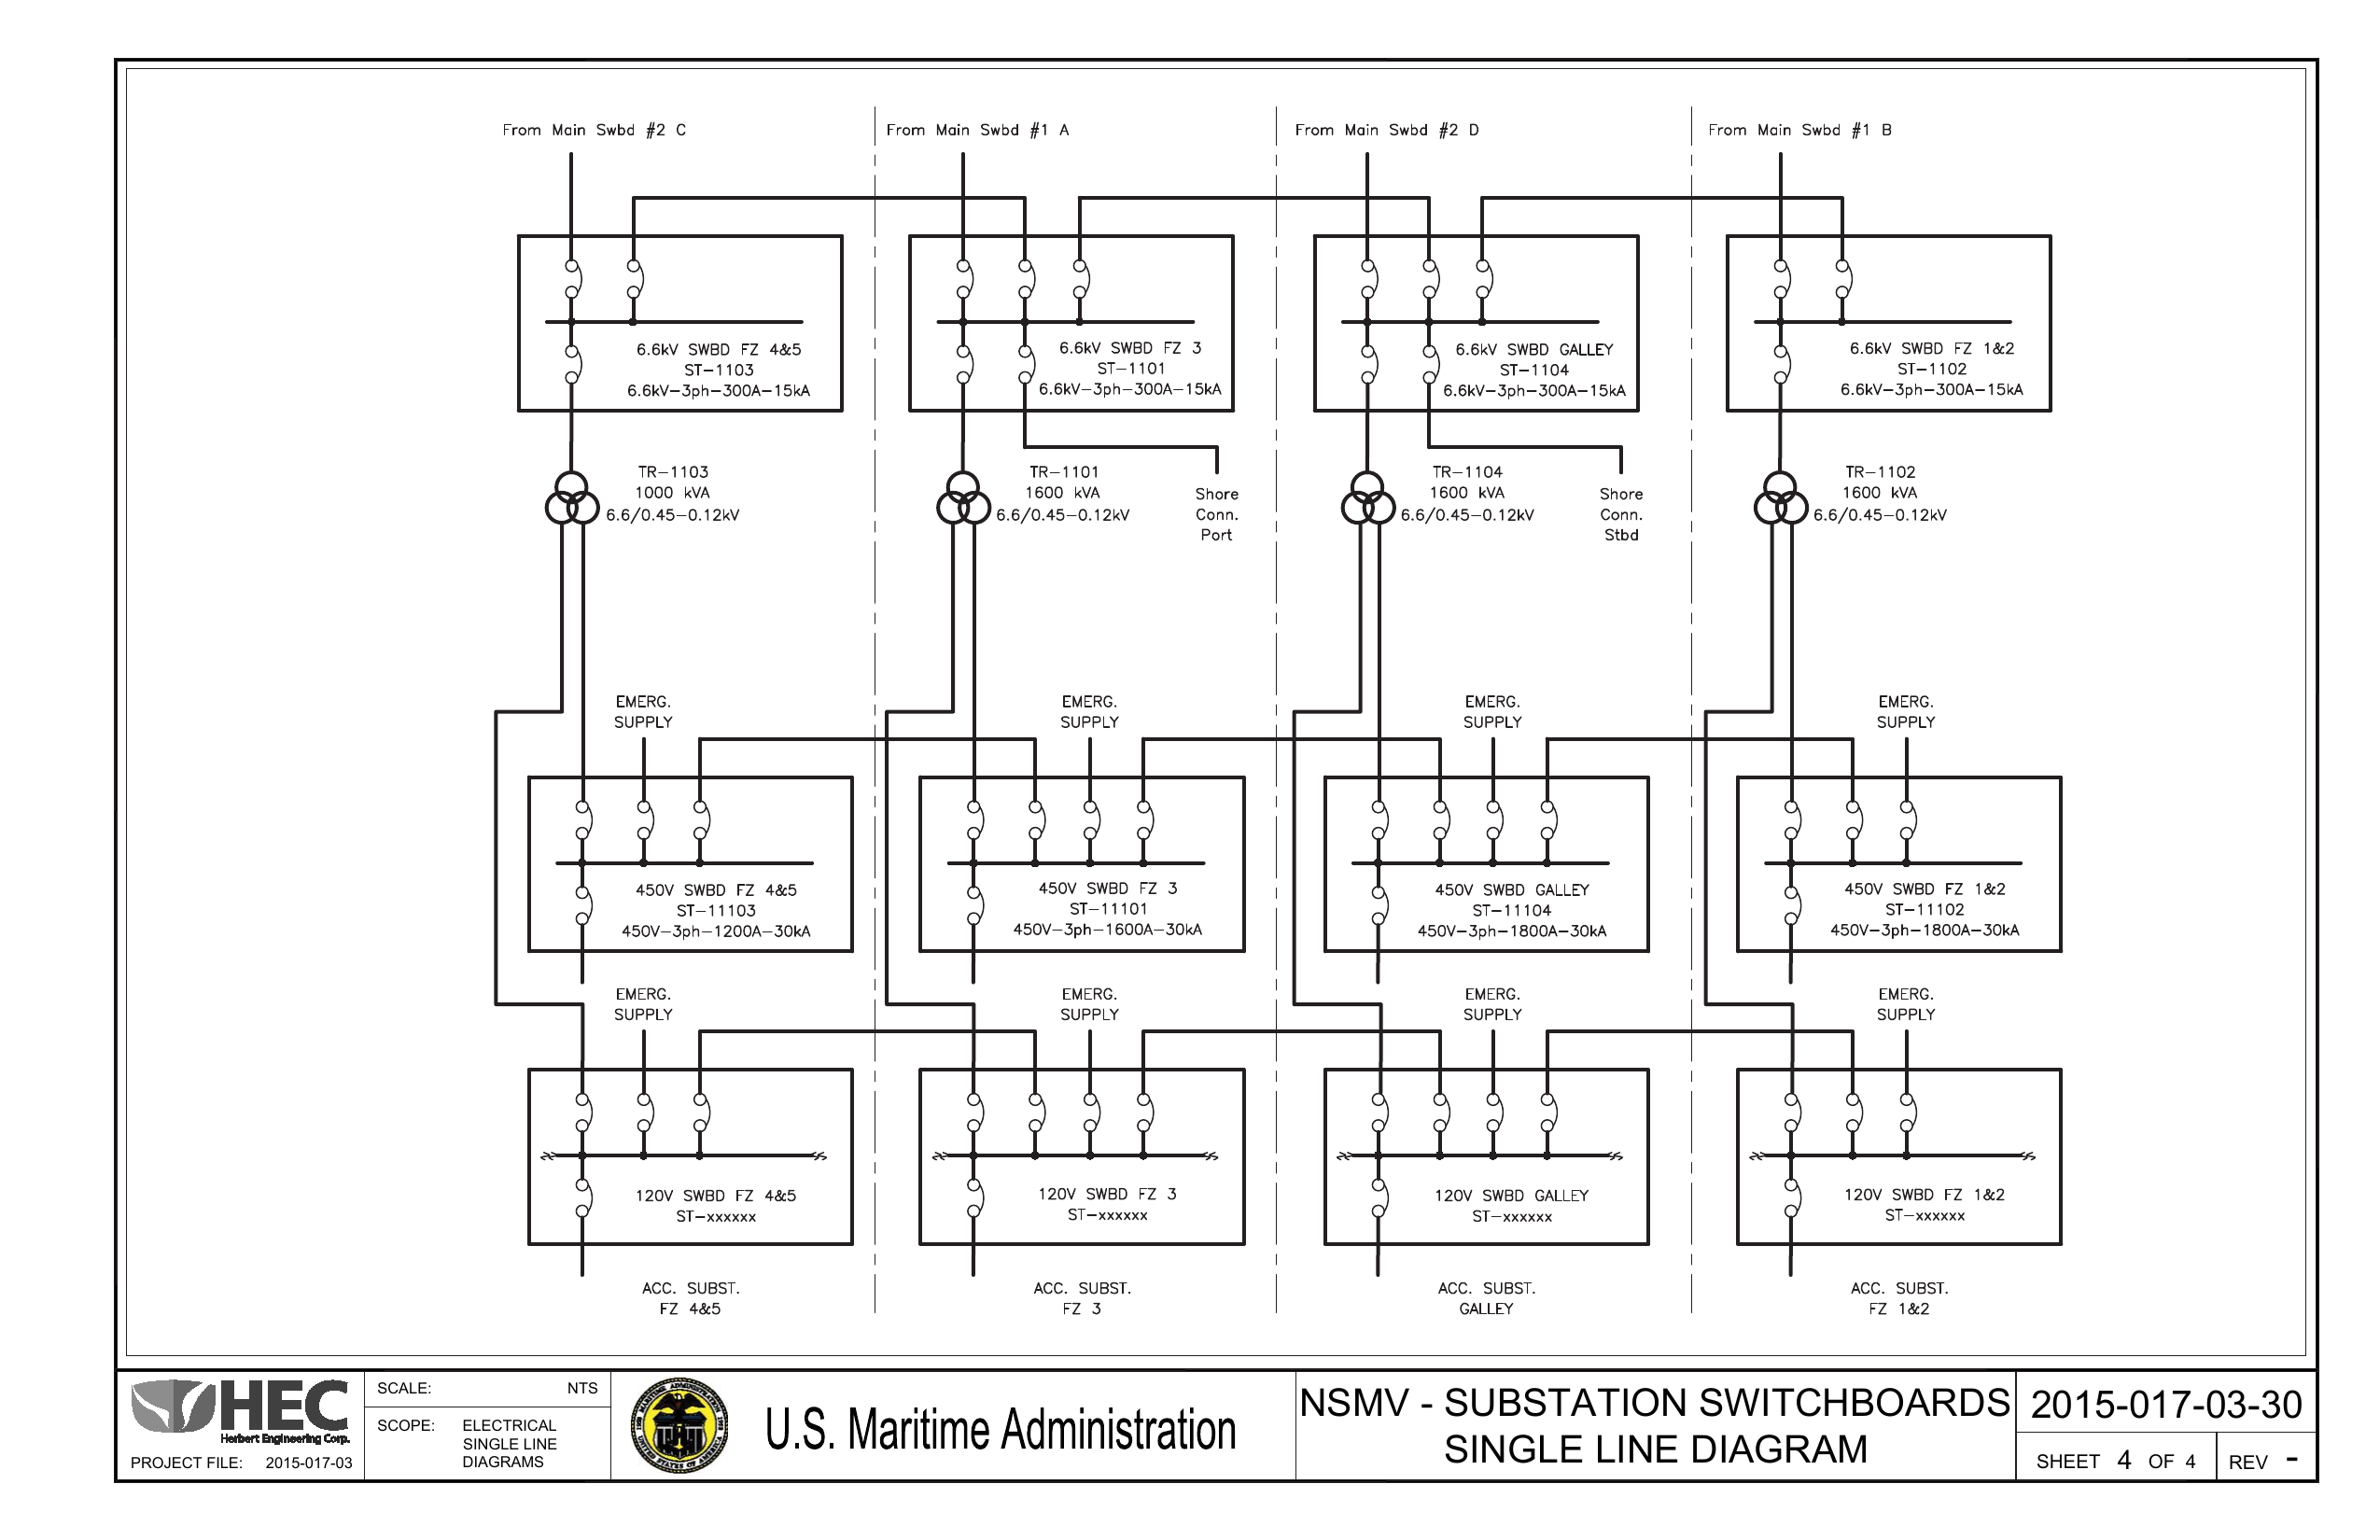circuit_breaker: (1827, 1072, 1882, 1145), (1405, 335, 1457, 395), (1891, 787, 1941, 850), (1471, 1075, 1516, 1141), (956, 789, 999, 855), (1528, 1075, 1572, 1141), (564, 1164, 611, 1224), (623, 786, 666, 850), (680, 787, 723, 852), (1768, 1167, 1816, 1223), (954, 1162, 996, 1226), (1011, 787, 1058, 843), (1834, 786, 1873, 850), (1353, 245, 1389, 312), (1360, 1073, 1396, 1141), (1358, 786, 1398, 846), (1360, 1165, 1403, 1221), (562, 786, 600, 848), (1530, 786, 1568, 848), (1776, 793, 1814, 855), (616, 246, 654, 307), (1773, 1080, 1811, 1141), (1128, 791, 1169, 846), (553, 245, 592, 303), (1010, 245, 1048, 303), (1424, 787, 1462, 846), (552, 333, 592, 388), (1468, 246, 1504, 307), (1363, 871, 1400, 931), (1764, 335, 1804, 388), (1775, 872, 1813, 928), (630, 1077, 663, 1141), (1076, 1080, 1108, 1145), (1008, 331, 1043, 392), (1351, 330, 1384, 392), (958, 1084, 992, 1143), (1069, 245, 1100, 309), (947, 245, 980, 305), (1825, 245, 1860, 302), (1894, 1080, 1927, 1139), (1417, 250, 1452, 305), (687, 1079, 718, 1139), (1074, 789, 1107, 846), (1128, 1077, 1161, 1134), (1768, 245, 1797, 307), (567, 1077, 598, 1136), (949, 331, 982, 387), (564, 876, 598, 928), (956, 872, 989, 926), (1429, 1077, 1455, 1145), (1480, 789, 1511, 845), (1023, 1079, 1053, 1134)
